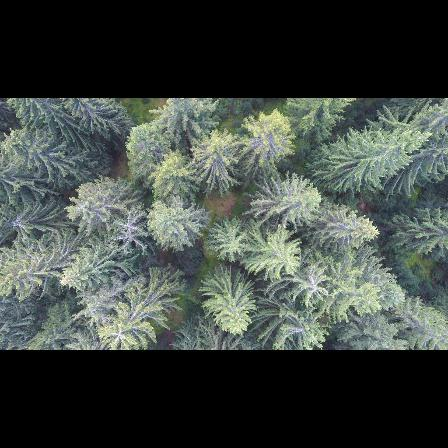Sick: (108, 214, 151, 255)
